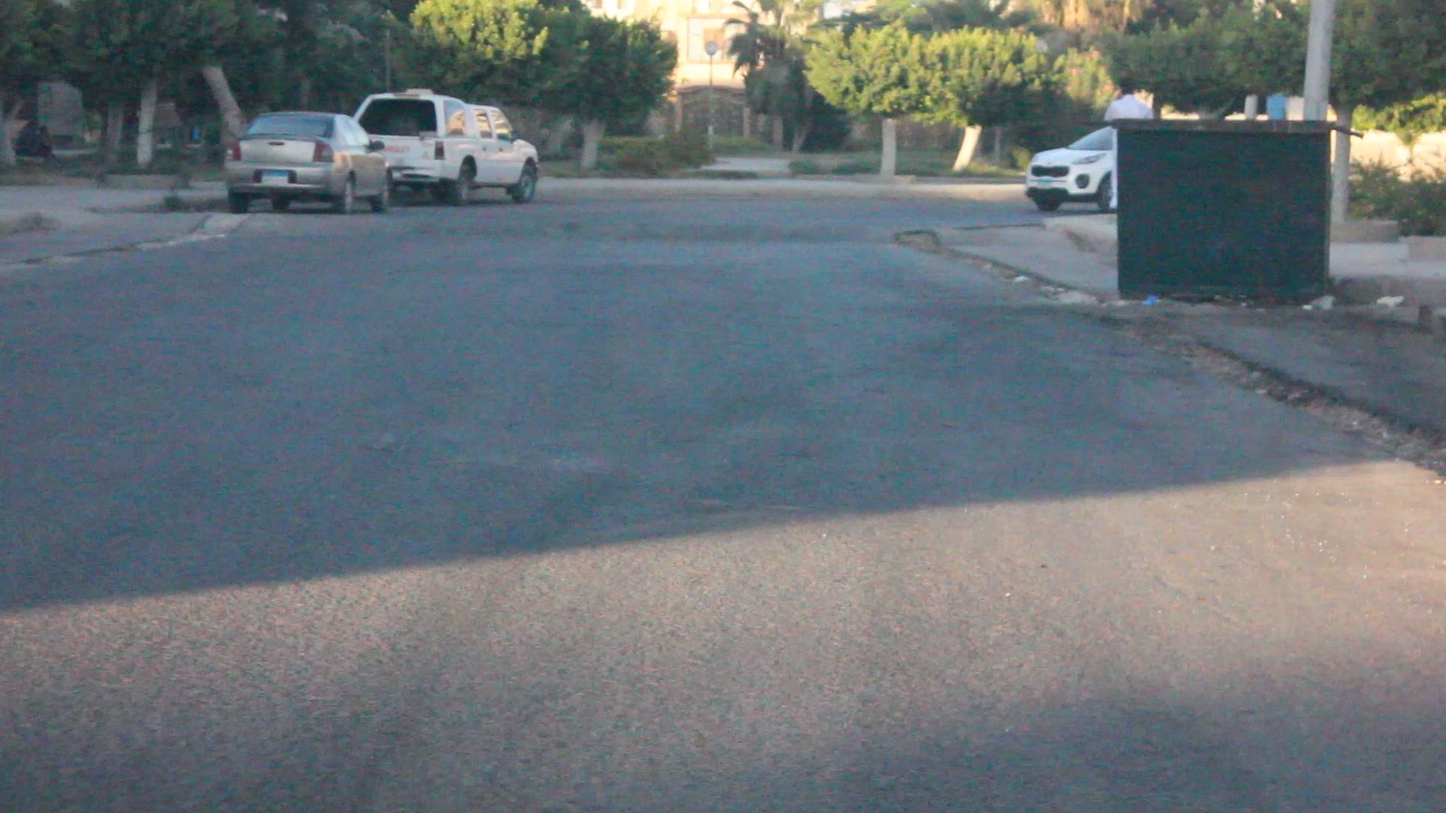Bump: (94, 205, 1060, 247)
